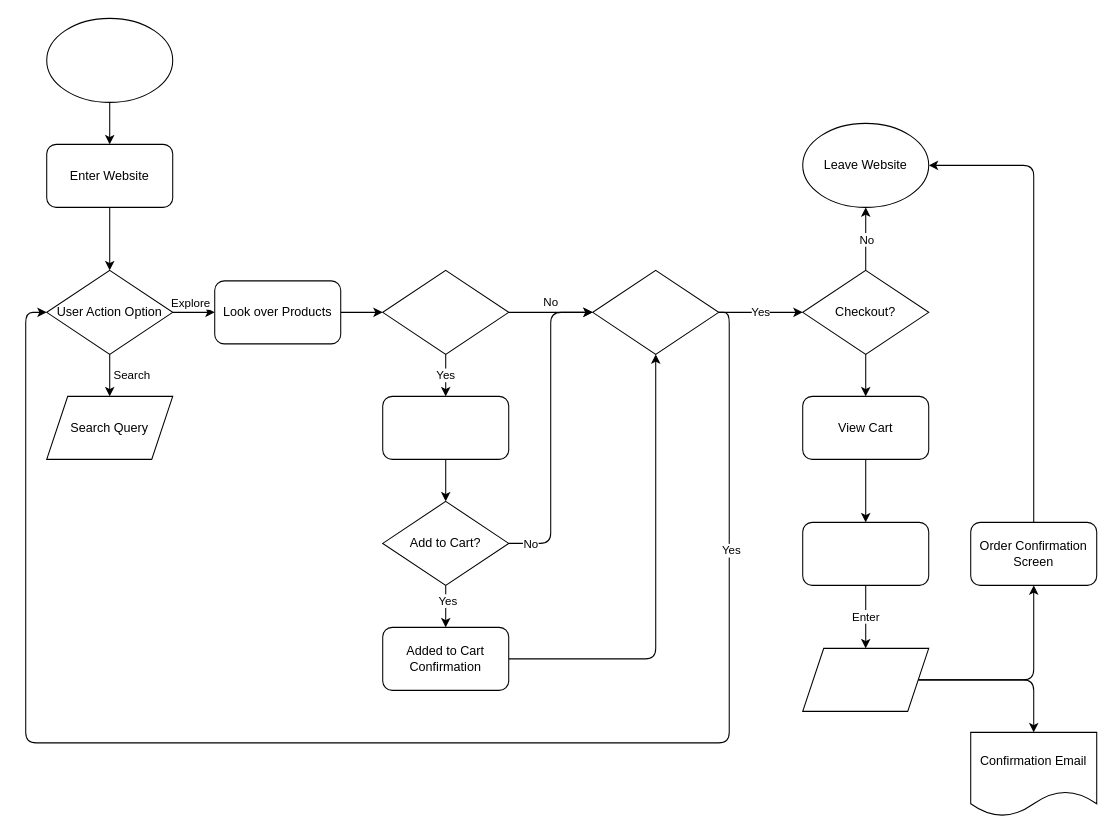
Some shapes in this 1115 by 835 pixel diagram are drawn without their labels. The box of each missing label's shape, as (x1, y1, x2, y2) in pixels:
Continue Shopping?: (592, 269, 719, 354)
Payment Info: (802, 647, 929, 711)
Start: (46, 17, 173, 102)
View Payment: (802, 521, 929, 585)
View Product Page: (382, 395, 509, 459)
View Specific Product: (382, 269, 509, 354)
